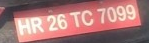0: (106, 6, 118, 23)
2: (46, 14, 59, 31)
6: (56, 14, 69, 30)
7: (96, 7, 107, 24)
9: (125, 4, 137, 20), (116, 5, 127, 21)
C: (81, 10, 95, 27)
H: (15, 18, 32, 35)
R: (30, 17, 47, 34)
T: (69, 11, 82, 28)
